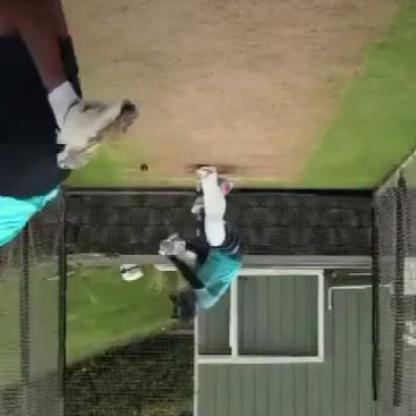ball: (135, 158, 151, 176)
